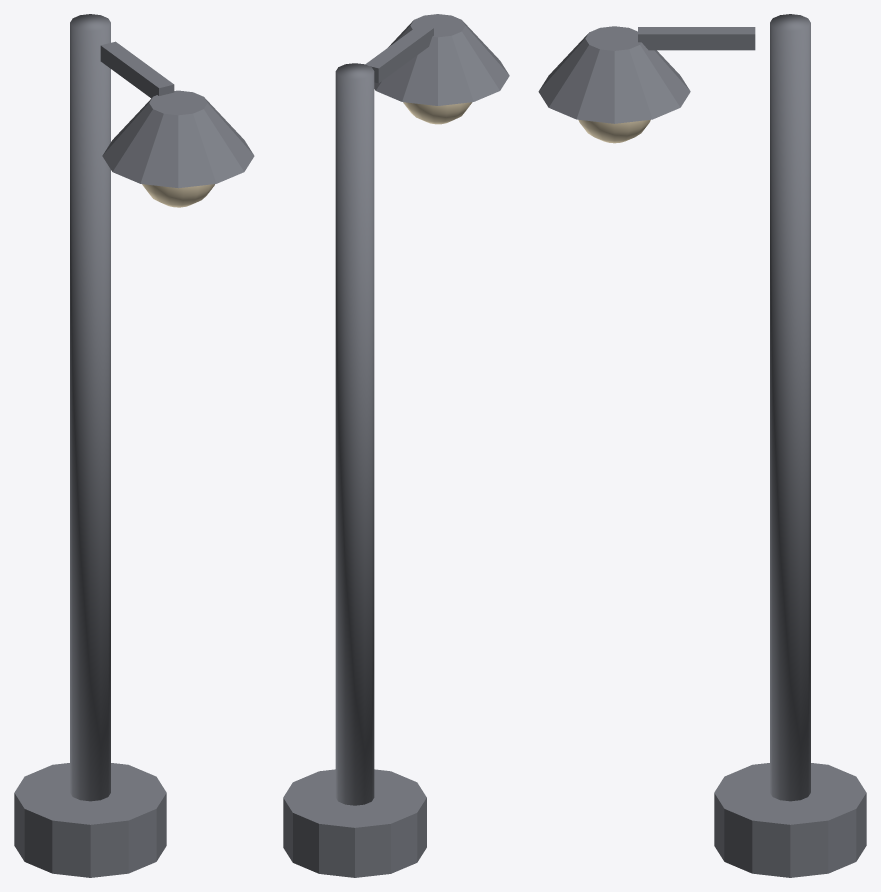
The model's file is Lamp.fbx.
3 renders of one model, left to right at view 1: azimuth 30°, elevation 25°; view 2: azimuth 150°, elevation 25°; view 3: azimuth 270°, elevation 25°, orthographic. The views are drawn at different scales.
Parts seen in each view (by area): view 1: Pole, Base, Shade, Arm, Bulb; view 2: Pole, Base, Shade, Arm, Bulb; view 3: Pole, Base, Shade, Arm, Bulb.
Boxes of the visible parts, x1,y1,x2,y2 form: Pole: (70, 14, 110, 801); Base: (14, 763, 166, 877); Shade: (102, 90, 254, 188); Arm: (100, 41, 174, 98); Bulb: (142, 184, 214, 207); Pole: (335, 63, 374, 805); Base: (283, 769, 426, 877); Shade: (374, 14, 509, 105); Arm: (365, 24, 433, 83); Bulb: (403, 102, 471, 124); Pole: (770, 14, 810, 801); Base: (714, 763, 866, 877); Shade: (538, 26, 690, 123); Arm: (638, 27, 755, 50); Bulb: (578, 119, 650, 143).
Size of the model in its own units: 0.26 by 1.55 by 0.56.
